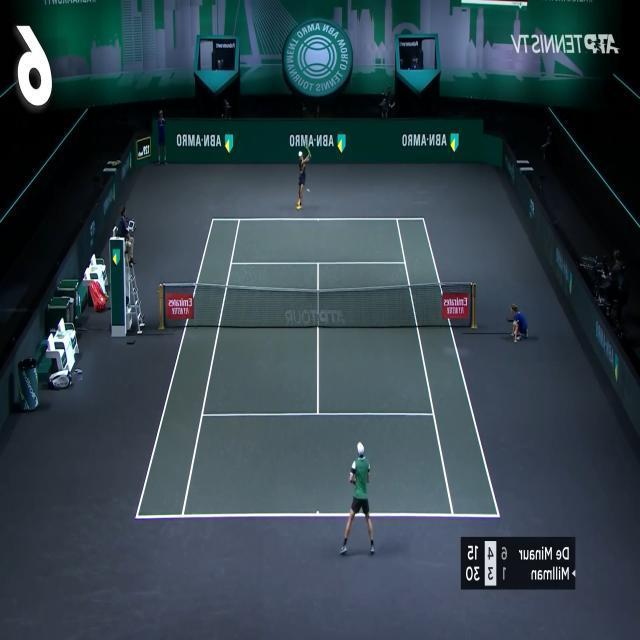court: (134, 217, 502, 518)
net: (158, 282, 476, 328)
player: (340, 441, 374, 555)
